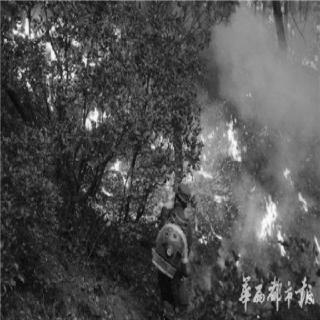Fire: (194, 110, 320, 260), (1, 4, 118, 124), (240, 3, 320, 69)
